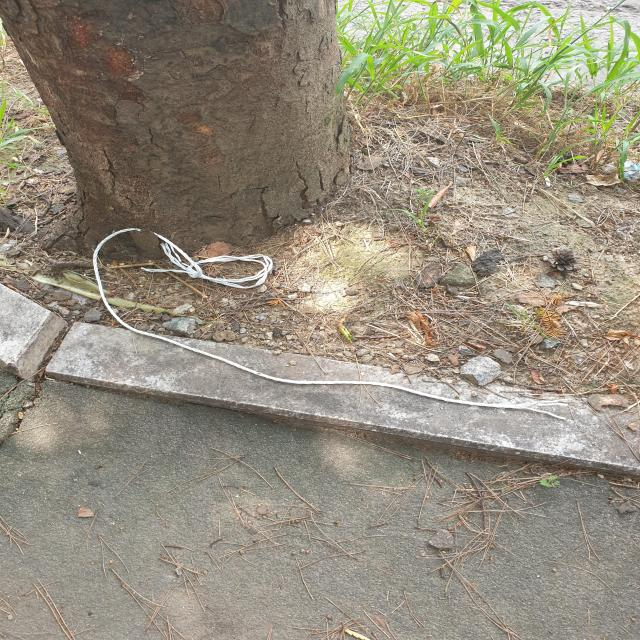litter: (72, 222, 589, 448)
